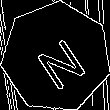N_NW: (26, 25, 86, 88)
